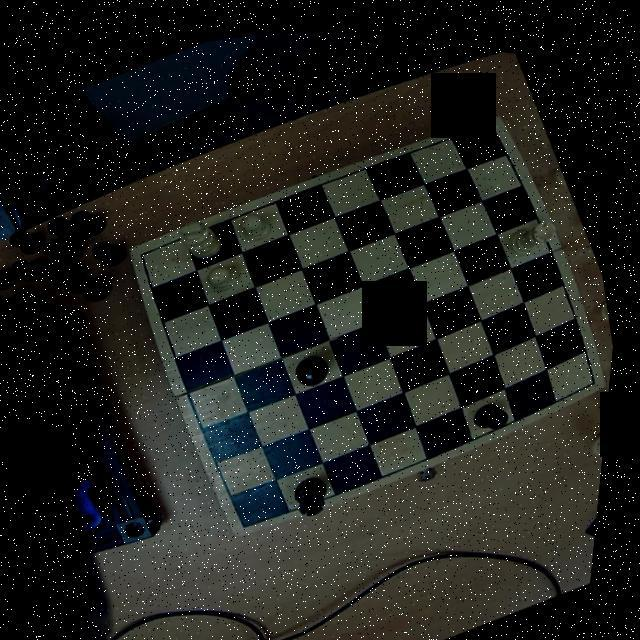chess-table-corners: (238, 497, 274, 532), (472, 98, 508, 130), (131, 236, 164, 270), (584, 350, 616, 379)
